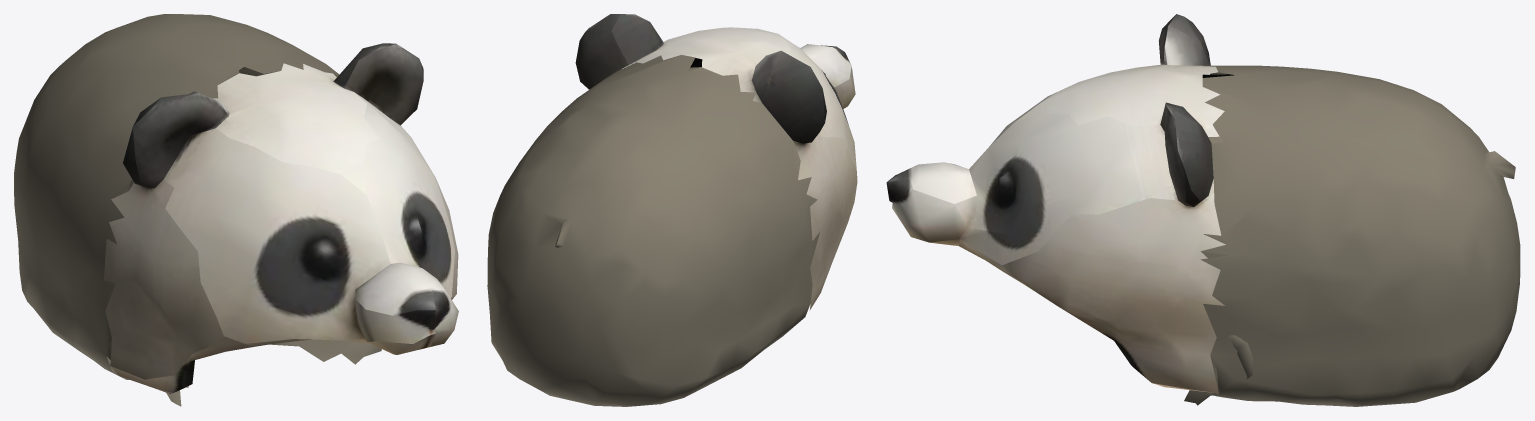
Rendered from panda.glb.
3 renders of one model, left to right at view 1: azimuth 30°, elevation 25°; view 2: azimuth 150°, elevation 25°; view 3: azimuth 270°, elevation 25°, orthographic. The views are drawn at different scales.
Visible parts, largest first — view 1: geometry_0, HoodAnatomicalLining; view 2: geometry_0; view 3: geometry_0, HoodAnatomicalLining.
Part boxes in pixels (bbox=[...]): geometry_0: bbox=[14, 14, 458, 393]; HoodAnatomicalLining: bbox=[106, 179, 381, 406]; geometry_0: bbox=[487, 14, 857, 406]; geometry_0: bbox=[886, 14, 1520, 406]; HoodAnatomicalLining: bbox=[1184, 131, 1253, 405].
Bounding box in the file's own units: 0.4728 × 0.4921 × 0.9177.
2 materials, 1 textured.
